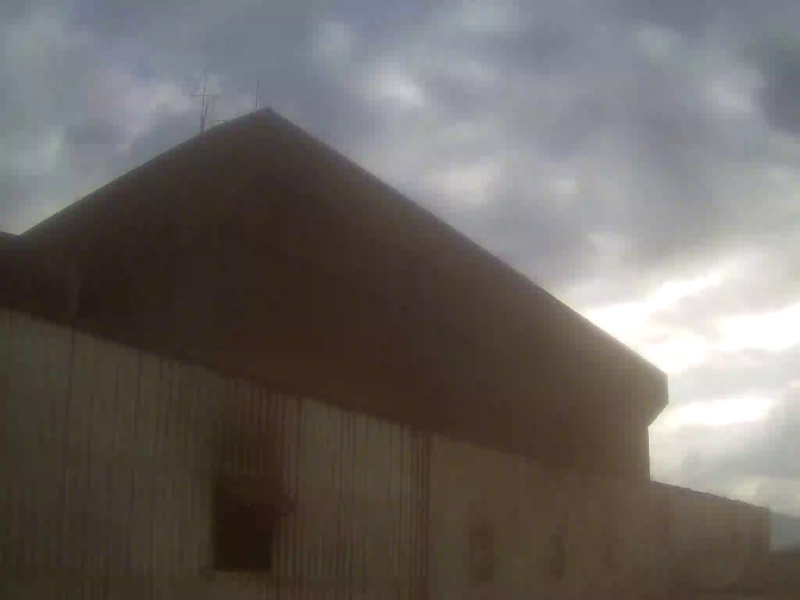bom: (273, 25, 744, 429), (4, 6, 302, 148)
